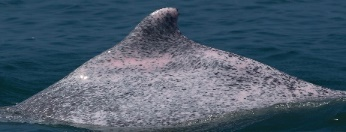fin: (11, 4, 333, 128)
